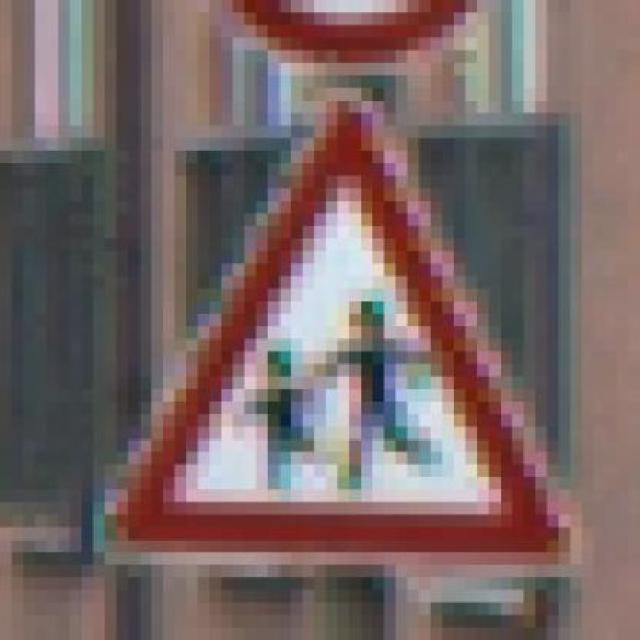Beware of children: (93, 75, 593, 590)
